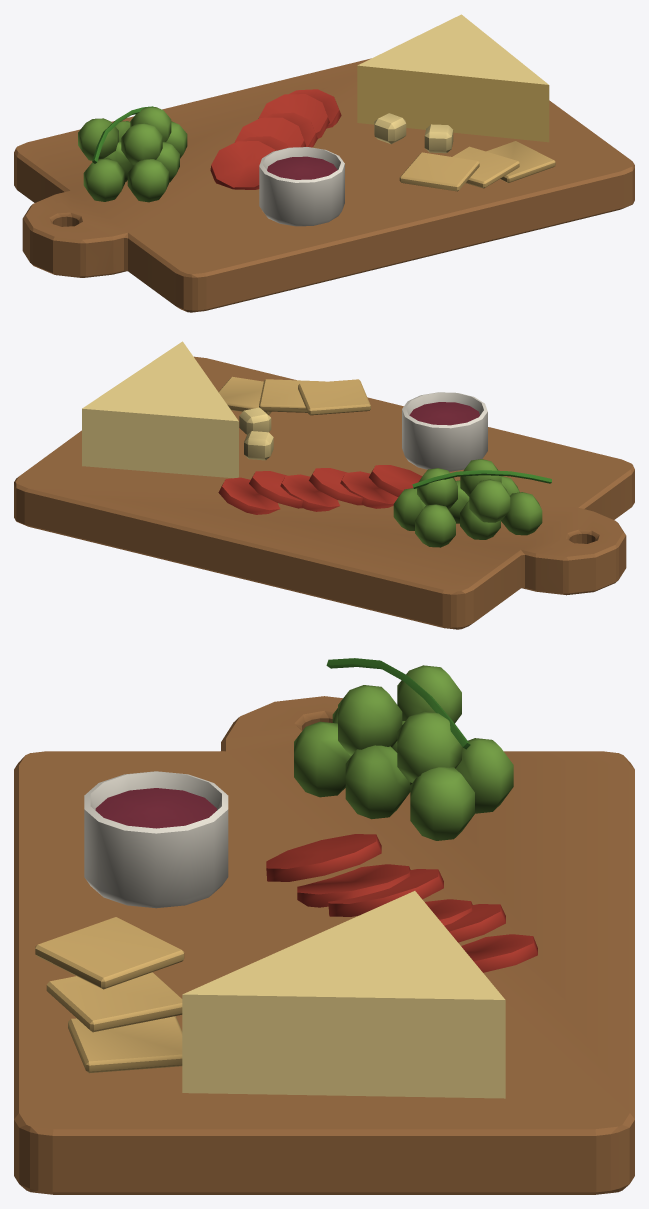
The model's file is tastingBoard.glb.
3 renders of one model, top to bottom at view 1: azimuth 30°, elevation 25°; view 2: azimuth 150°, elevation 25°; view 3: azimuth 270°, elevation 25°, orthographic. The views are drawn at different scales.
Visible parts, largest first — view 1: tastingBoard; view 2: tastingBoard; view 3: tastingBoard.
Part boxes in pixels (x1,y1,x2,y2): tastingBoard: [14, 14, 634, 312]; tastingBoard: [14, 341, 634, 629]; tastingBoard: [14, 658, 634, 1194].
Size of the model in its own units: 0.3995 by 0.0759 by 0.24.
